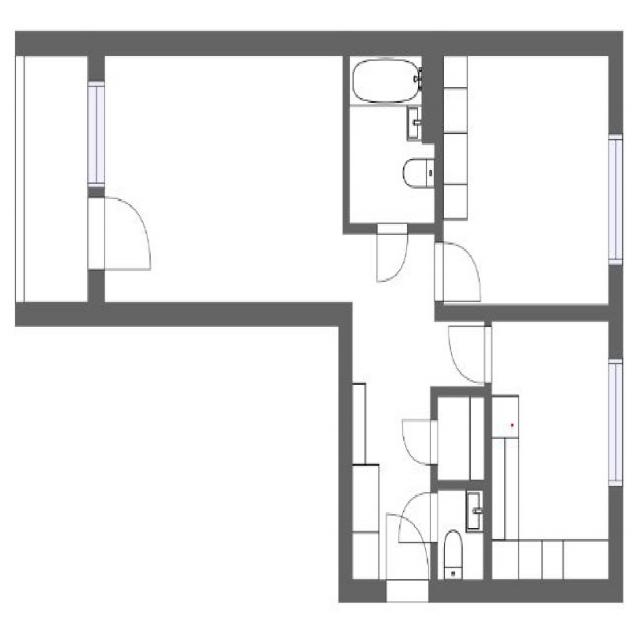door: (88, 198, 150, 270), (387, 513, 429, 601), (435, 242, 481, 301), (450, 326, 492, 382), (400, 493, 438, 542), (377, 224, 408, 283), (402, 420, 438, 465)
